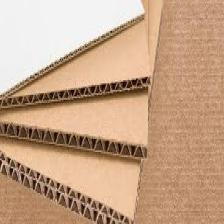cardboard: (0, 0, 224, 224), (7, 118, 144, 219), (0, 0, 146, 90), (14, 74, 145, 173), (32, 9, 157, 96)
